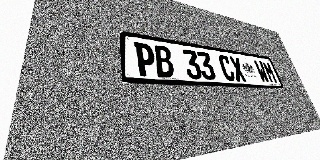3: (182, 49, 203, 79), (196, 51, 216, 80)
B: (153, 45, 175, 78)
C: (217, 54, 236, 81)
M: (262, 61, 278, 83)
P: (134, 42, 157, 77)
W: (253, 60, 270, 83)
X: (228, 56, 247, 82)
